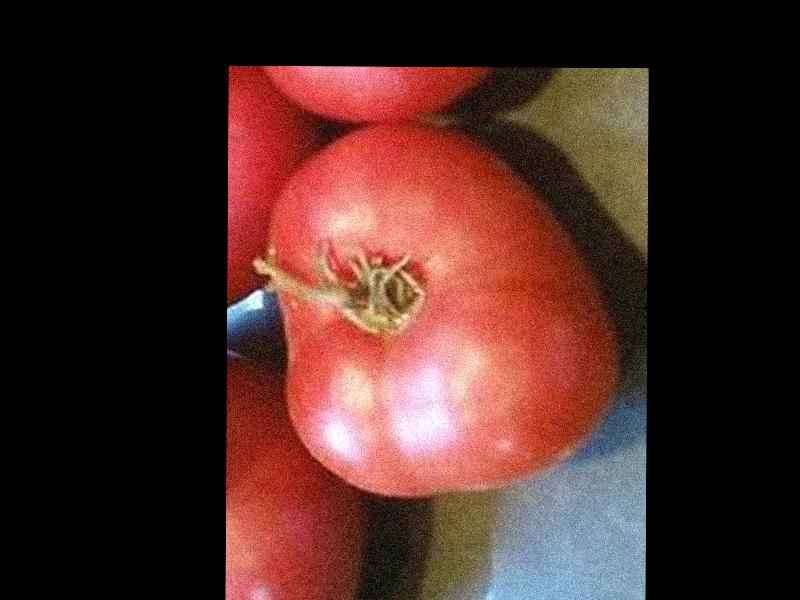Tomato: (266, 125, 618, 498)
